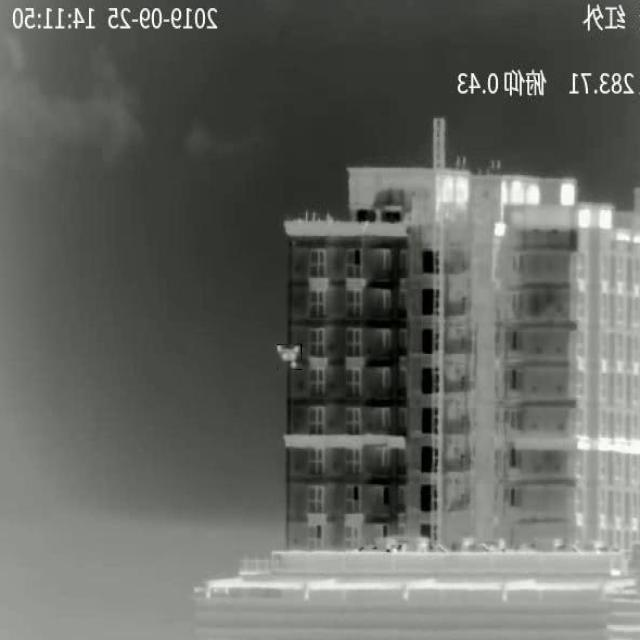drone: (277, 345, 301, 370)
